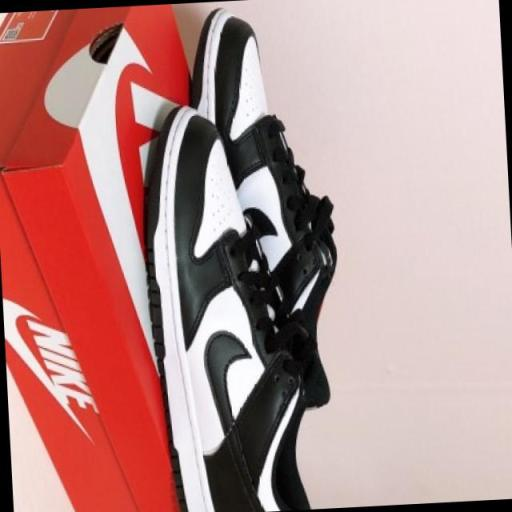Nike: (200, 330, 258, 480)
